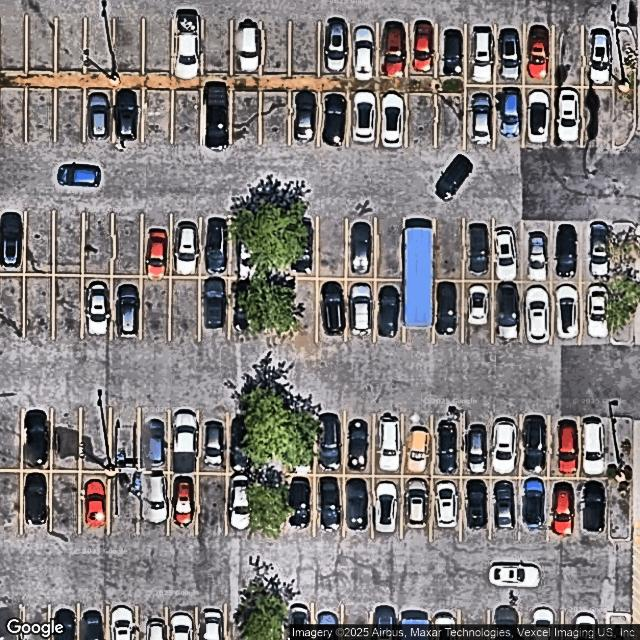car: (203, 80, 230, 152), (176, 9, 200, 79), (24, 408, 50, 469), (523, 413, 548, 475), (172, 410, 197, 471), (285, 476, 313, 530), (586, 26, 611, 86), (316, 413, 341, 471), (288, 413, 312, 473), (377, 412, 401, 472), (321, 281, 347, 336), (556, 418, 580, 477), (526, 24, 551, 80), (556, 88, 581, 144), (114, 282, 139, 338), (229, 474, 254, 530), (324, 16, 348, 74), (580, 415, 604, 473), (470, 26, 493, 86), (321, 93, 347, 146), (352, 26, 376, 83), (492, 419, 516, 476), (523, 476, 547, 533), (344, 479, 369, 533), (380, 90, 404, 146), (405, 423, 431, 474), (492, 478, 517, 531), (383, 21, 405, 81), (377, 284, 401, 339), (495, 285, 519, 340), (551, 482, 575, 537), (317, 476, 340, 533), (497, 27, 521, 81), (581, 481, 605, 535), (293, 89, 317, 142), (527, 91, 551, 144), (288, 220, 312, 273), (404, 477, 428, 530), (231, 413, 252, 473), (436, 417, 458, 474), (236, 20, 260, 72), (87, 91, 111, 143), (374, 480, 398, 532), (464, 477, 488, 529), (350, 281, 373, 335), (527, 286, 549, 342), (434, 480, 459, 529), (83, 477, 107, 528), (411, 20, 434, 73), (143, 472, 166, 525), (555, 223, 576, 280), (23, 474, 46, 526), (465, 423, 488, 475), (353, 91, 375, 145), (471, 91, 493, 145), (115, 89, 138, 140), (202, 278, 225, 329), (557, 285, 579, 338), (347, 417, 368, 472), (235, 222, 257, 274), (496, 228, 518, 280), (173, 476, 195, 528), (437, 282, 458, 335), (88, 281, 108, 335), (468, 222, 488, 275), (441, 29, 463, 76), (203, 418, 224, 467), (588, 284, 607, 338), (145, 418, 166, 466), (590, 223, 608, 278), (4, 211, 21, 269), (500, 89, 520, 138), (108, 604, 135, 640), (493, 604, 520, 640), (352, 224, 371, 275), (528, 230, 547, 281), (147, 229, 166, 279), (208, 218, 225, 273), (372, 603, 397, 640), (530, 605, 556, 640), (401, 607, 428, 640), (235, 280, 252, 332), (570, 610, 600, 639), (288, 605, 312, 640), (431, 609, 458, 639), (469, 285, 488, 326), (81, 608, 105, 640), (315, 608, 339, 640), (53, 607, 76, 639), (180, 222, 194, 274), (201, 607, 223, 640), (168, 610, 192, 640), (144, 616, 166, 640)
lot_boundary: (0, 0, 613, 639)
objects: (0, 75, 461, 89), (258, 410, 284, 538), (262, 212, 287, 342), (405, 227, 433, 327), (226, 604, 284, 640)
stall: (465, 20, 496, 85), (495, 20, 525, 85), (83, 210, 113, 275), (494, 86, 524, 151), (142, 211, 172, 276), (112, 211, 142, 276), (374, 215, 404, 280), (171, 212, 201, 277), (229, 276, 259, 341), (111, 276, 141, 341), (464, 216, 494, 281), (375, 279, 405, 344), (287, 279, 317, 344), (581, 282, 611, 347), (581, 217, 611, 282), (551, 283, 581, 348), (521, 281, 551, 346), (50, 471, 80, 536), (284, 410, 314, 475), (198, 409, 228, 474), (109, 471, 139, 536), (491, 412, 521, 477), (462, 412, 492, 477), (373, 410, 403, 475), (343, 477, 373, 542), (314, 475, 344, 540), (577, 479, 607, 544), (549, 479, 579, 544), (550, 412, 580, 477), (519, 478, 549, 543), (519, 412, 549, 477), (489, 476, 519, 541), (553, 22, 583, 86), (24, 210, 54, 274), (169, 278, 199, 342), (82, 276, 112, 340), (492, 282, 522, 346), (285, 476, 315, 540), (524, 21, 553, 86), (552, 86, 581, 151), (583, 87, 612, 152), (583, 23, 612, 88), (525, 86, 554, 151), (346, 215, 375, 280), (317, 214, 346, 279), (288, 214, 317, 279), (230, 212, 259, 277), (201, 213, 230, 278), (141, 276, 170, 341), (346, 278, 375, 343), (317, 278, 346, 343), (51, 406, 80, 471), (552, 216, 581, 281), (492, 217, 521, 282), (465, 281, 494, 346), (110, 407, 139, 472), (81, 472, 110, 537), (81, 406, 110, 471), (23, 406, 52, 471), (226, 473, 255, 538), (227, 410, 256, 475), (168, 407, 197, 472), (139, 406, 168, 471), (460, 476, 489, 541), (432, 476, 461, 541), (402, 476, 431, 541), (402, 410, 431, 475), (373, 476, 402, 541), (345, 410, 374, 475), (578, 412, 607, 477), (54, 210, 83, 274), (465, 86, 494, 150), (200, 278, 229, 342), (53, 276, 82, 340), (24, 276, 53, 340), (434, 216, 463, 280), (433, 282, 462, 346), (521, 218, 550, 282), (22, 472, 51, 536), (315, 410, 344, 474), (197, 474, 226, 538), (169, 474, 198, 538), (139, 472, 168, 536), (432, 412, 461, 476), (55, 15, 85, 71), (202, 17, 232, 73), (377, 20, 407, 76), (349, 18, 379, 74), (319, 18, 349, 74), (232, 17, 262, 73), (436, 19, 466, 75), (27, 16, 57, 71), (173, 17, 203, 72), (84, 15, 114, 70), (113, 16, 143, 71), (143, 17, 173, 72), (289, 18, 319, 73), (260, 17, 290, 72), (407, 20, 437, 75), (519, 604, 563, 640), (25, 89, 55, 141), (231, 90, 261, 142), (349, 93, 379, 145), (84, 89, 114, 141), (113, 89, 143, 141), (143, 90, 173, 142), (201, 90, 231, 142), (260, 91, 290, 142), (289, 92, 319, 143), (319, 94, 349, 145), (55, 90, 85, 141), (171, 91, 201, 142), (2, 209, 25, 275), (0, 15, 26, 73), (563, 605, 605, 640), (378, 92, 406, 144), (0, 406, 22, 470), (1, 88, 27, 140), (2, 276, 23, 338), (408, 94, 433, 146), (436, 94, 461, 146), (1, 471, 20, 537), (430, 605, 460, 640), (400, 605, 430, 640), (137, 605, 166, 640), (168, 605, 197, 640), (460, 605, 489, 640), (490, 605, 519, 640), (372, 605, 400, 640), (343, 605, 370, 640), (52, 604, 78, 640), (1, 604, 27, 640), (80, 605, 106, 640), (109, 605, 135, 640), (198, 605, 224, 640), (315, 605, 341, 640), (26, 605, 52, 640), (286, 605, 312, 640)
